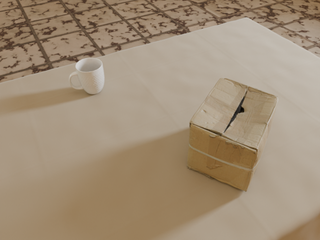box: (187, 78, 278, 191)
cup: (69, 58, 104, 94)
